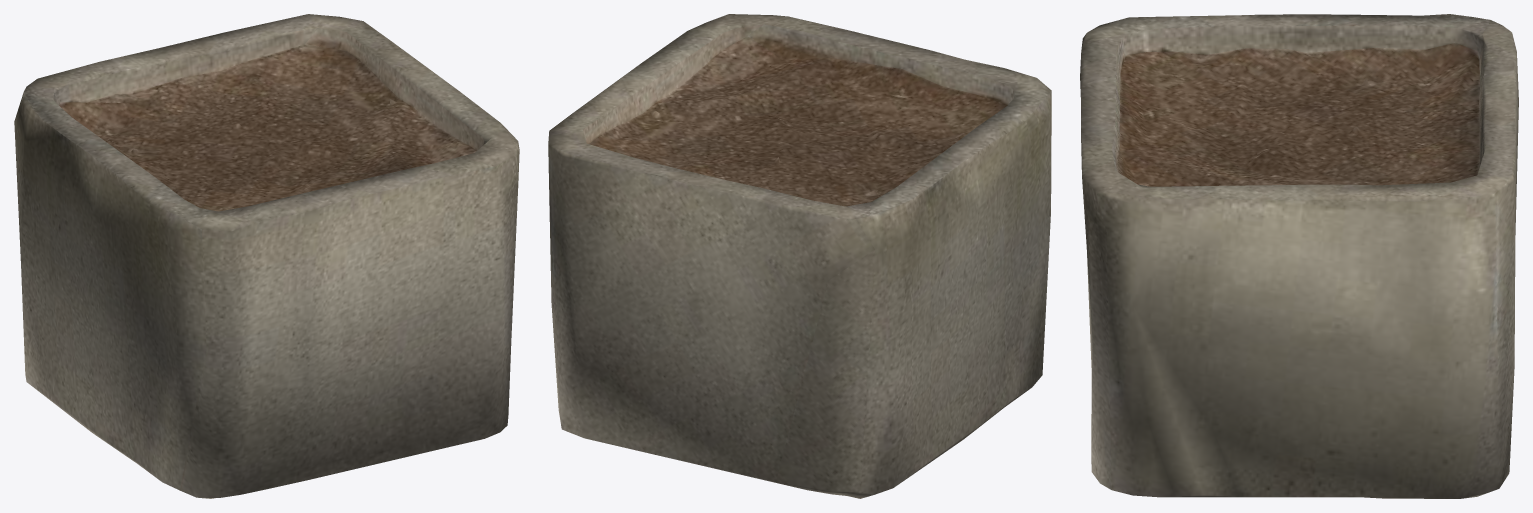
The model's file is pot_bowl.glb.
The picture shows the model from 3 angles, left to right: view 1: azimuth 30°, elevation 25°; view 2: azimuth 150°, elevation 25°; view 3: azimuth 270°, elevation 25°; orthographic projection. The views are drawn at different scales.
Parts seen in each view (by area): view 1: Megascans pot_bowl; view 2: Megascans pot_bowl; view 3: Megascans pot_bowl.
Boxes of the visible parts, x1=… form: Megascans pot_bowl: x1=14, y1=14, x2=519, y2=498; Megascans pot_bowl: x1=548, y1=14, x2=1051, y2=498; Megascans pot_bowl: x1=1080, y1=14, x2=1518, y2=498.
Bounding box in the file's own units: 0.9179 × 0.7295 × 0.9089.
1 material, 1 textured.
